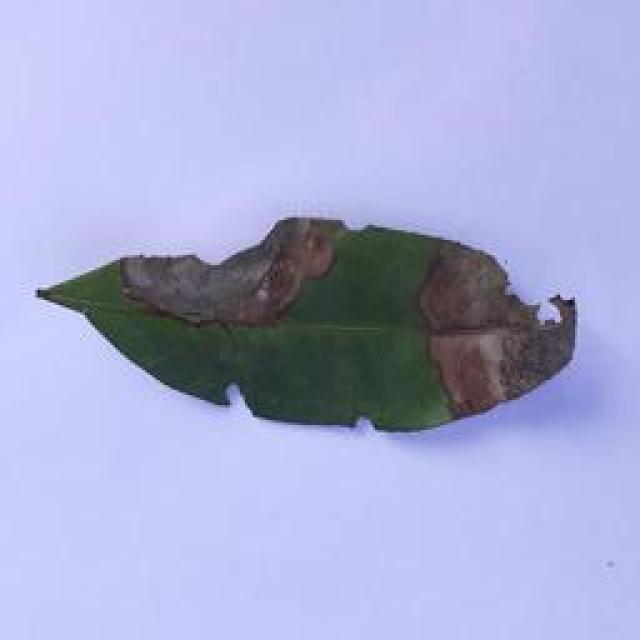Gray Blight: (37, 207, 597, 443)
